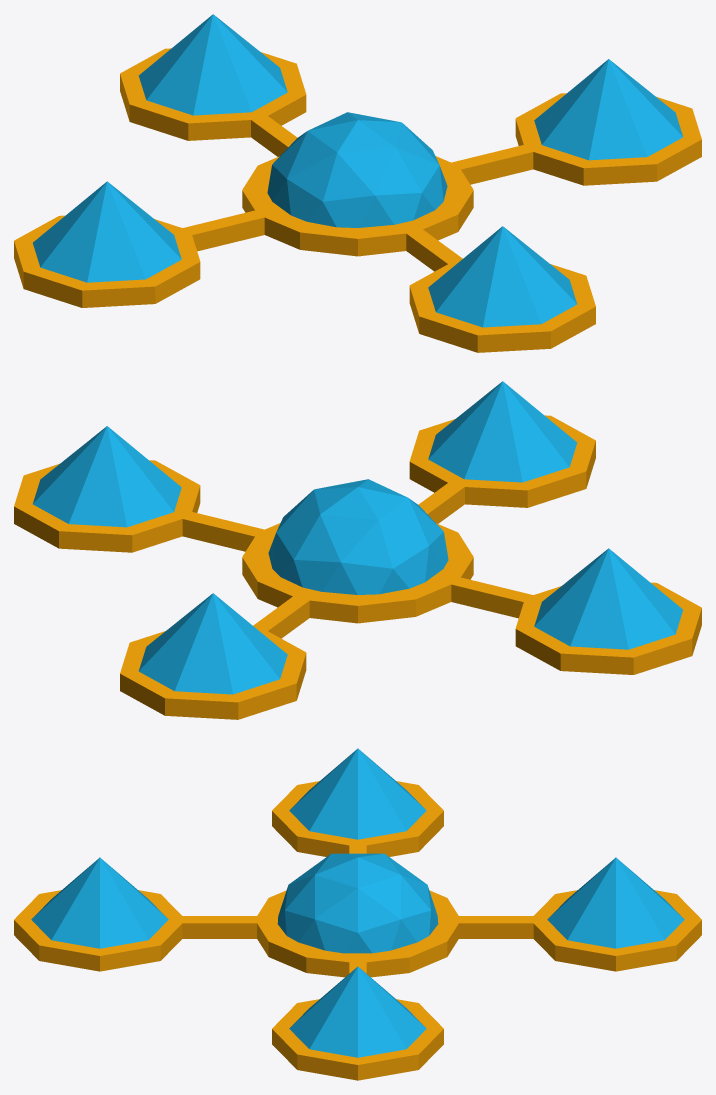
Rendered from Space_HQ_Lvl_2.fbx.
The picture shows the model from 3 angles, top to bottom: view 1: azimuth 30°, elevation 25°; view 2: azimuth 150°, elevation 25°; view 3: azimuth 270°, elevation 25°; orthographic projection. The views are drawn at different scales.
Visible parts, largest first — view 1: Icosphere; view 2: Icosphere; view 3: Icosphere.
Part boxes in pixels (x1,y1,x2,y2): Icosphere: (14, 14, 701, 352); Icosphere: (14, 381, 701, 719); Icosphere: (14, 748, 701, 1080).
Size of the model in its own units: 400 by 50 by 400.
